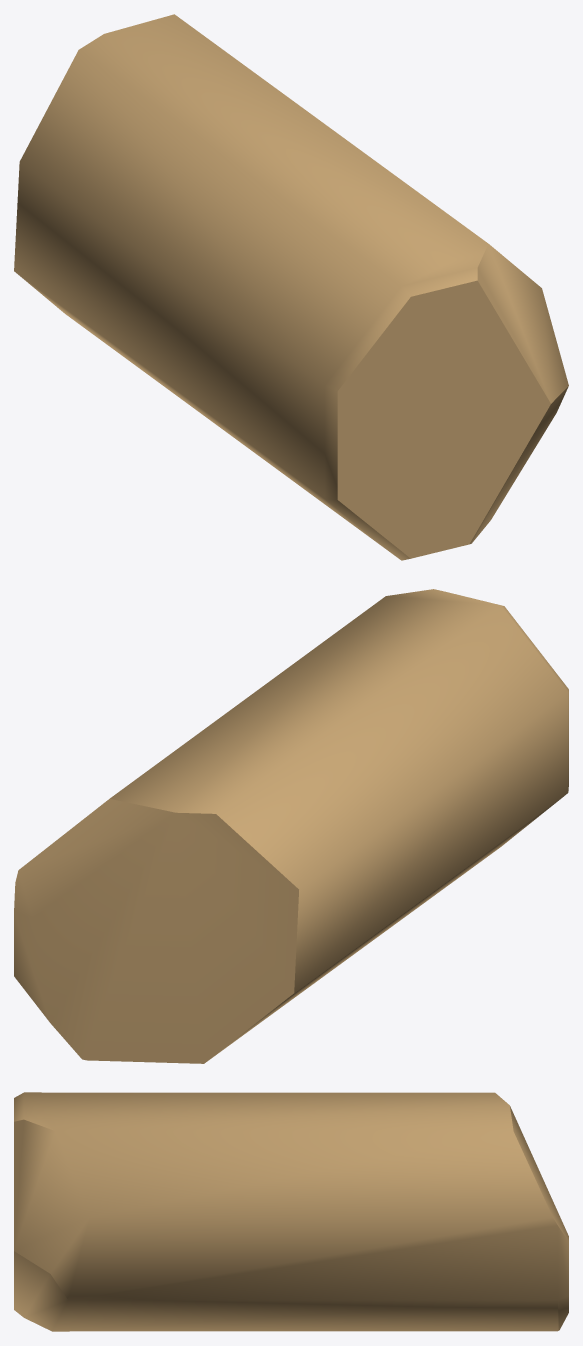
The model's file is BrokenRuin_pillarMid_01.fbx.
3 views of the same model, one above another, from view 1: azimuth 30°, elevation 25°; view 2: azimuth 150°, elevation 25°; view 3: azimuth 270°, elevation 25° (orthographic). The views are drawn at different scales.
Parts seen in each view (by area): view 1: pillarMid_01; view 2: pillarMid_01; view 3: pillarMid_01.
Boxes of the visible parts, x1,y1,x2,y2 form: pillarMid_01: (14, 14, 568, 560); pillarMid_01: (14, 589, 568, 1063); pillarMid_01: (14, 1092, 568, 1331).
Bounding box in the file's own units: 114 × 114 × 287.
